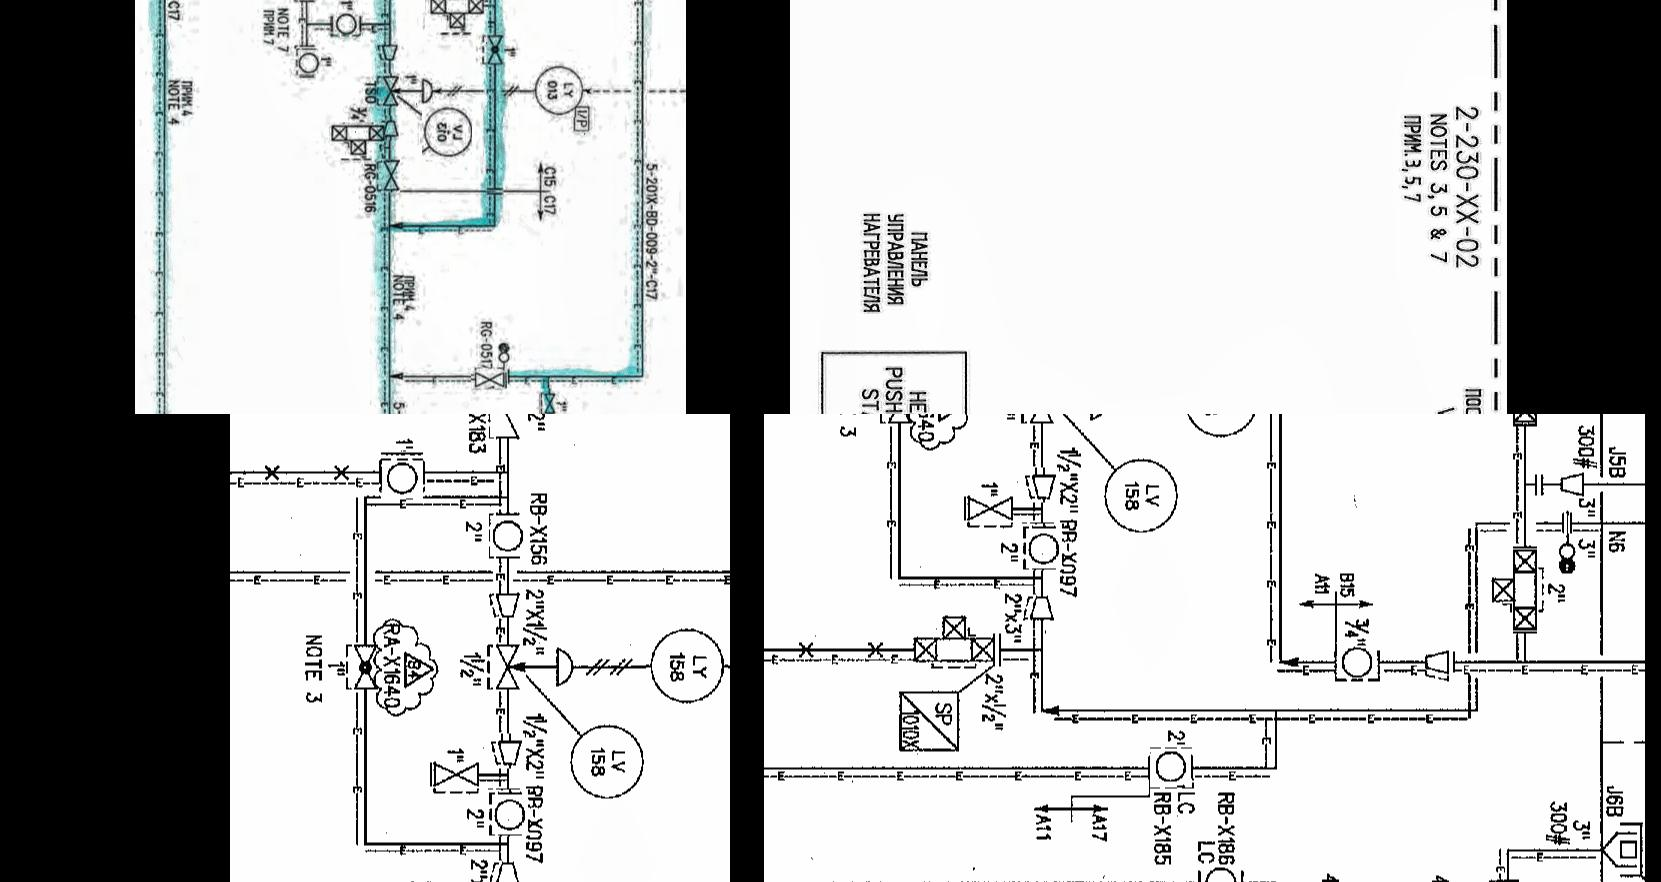2 WAY VALVE: (1489, 538, 1549, 637), (907, 609, 997, 668), (422, 0, 486, 33), (325, 122, 382, 157), (1485, 414, 1543, 435)
CONCENTRIC REDUCER: (1422, 643, 1457, 681), (488, 733, 524, 768), (1022, 467, 1058, 502), (1556, 465, 1585, 501), (1025, 594, 1056, 625), (491, 589, 521, 621), (376, 37, 402, 65), (490, 860, 521, 882), (379, 114, 399, 139), (1489, 874, 1521, 882)
DIAPHRAGM ACTUATED VALVE: (486, 637, 575, 689), (380, 72, 437, 107)
FIELD INSTRUMENT: (646, 619, 727, 708), (564, 723, 649, 801), (1099, 457, 1183, 535), (420, 104, 470, 161), (533, 64, 586, 118), (1179, 414, 1261, 443), (380, 450, 423, 501), (486, 509, 526, 559), (486, 790, 528, 837), (1019, 524, 1062, 570), (1335, 645, 1383, 681), (1149, 747, 1192, 788), (1200, 861, 1244, 882), (291, 47, 320, 74), (331, 9, 360, 33)
GATE VALVE: (343, 636, 388, 696), (433, 753, 478, 799), (967, 488, 1012, 532), (468, 367, 505, 388), (876, 414, 921, 429), (379, 159, 399, 192), (539, 388, 559, 414)
GLOBE VALVE: (483, 27, 509, 67)
IP CONVERTER: (569, 103, 594, 137)
REVISION TRIANGLE: (395, 652, 441, 688), (929, 414, 974, 421)
SPECIAL PIPING ITEM: (888, 686, 962, 759)
SPECTACLE BLIND OPEN: (1552, 507, 1583, 577), (497, 337, 513, 386)
